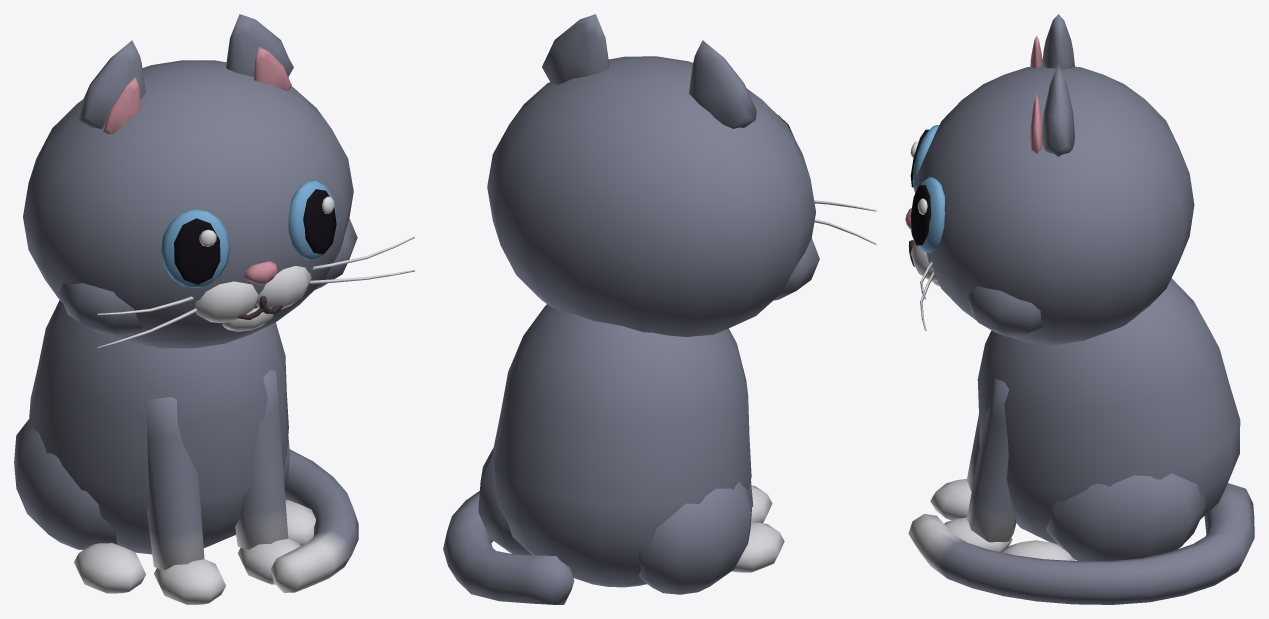
The model's file is cat_grey.glb.
3 renders of one model, left to right at view 1: azimuth 30°, elevation 25°; view 2: azimuth 150°, elevation 25°; view 3: azimuth 270°, elevation 25°, orthographic. The views are drawn at different scales.
Visible parts, largest first — view 1: cat_grey, tail; view 2: cat_grey, tail; view 3: cat_grey, tail.
Boxes of the visible parts, left/top/right/bottom form: cat_grey: left=14, top=14, right=414, bottom=604; tail: left=271, top=449, right=358, bottom=592; cat_grey: left=478, top=14, right=876, bottom=594; tail: left=443, top=491, right=574, bottom=604; cat_grey: left=905, top=14, right=1240, bottom=560; tail: left=908, top=483, right=1254, bottom=604.
Bounding box in the file's own units: 0.165 × 0.2622 × 0.1653.
